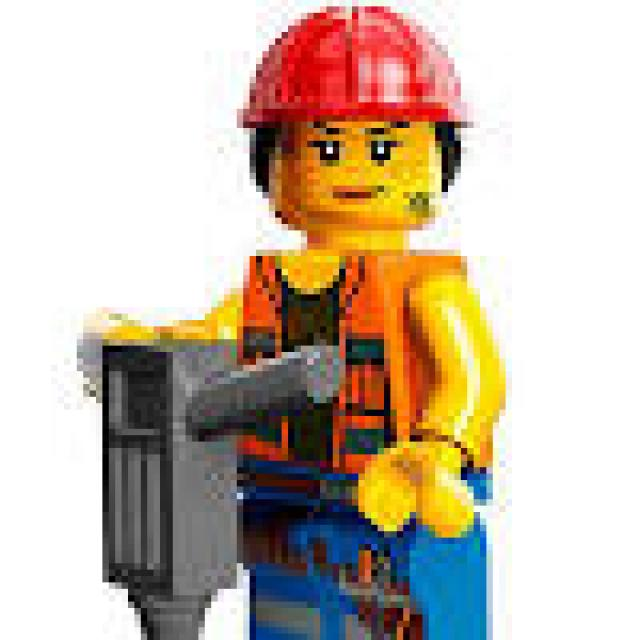Reflective-Jacket: (218, 230, 512, 532)
Safety-Helmet: (230, 6, 487, 141)
